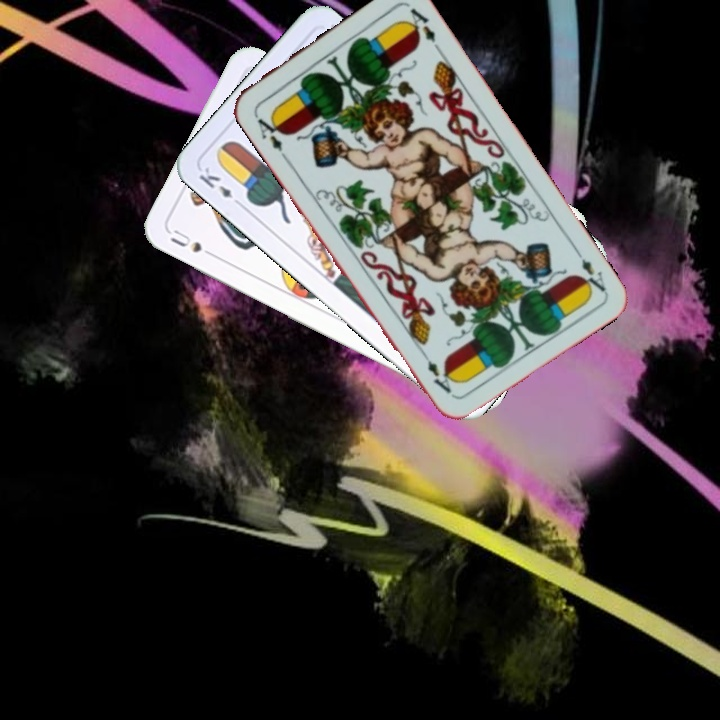EA: (570, 243, 609, 297), (250, 109, 287, 154)
EK: (195, 163, 246, 210)
SU: (166, 225, 221, 261)
